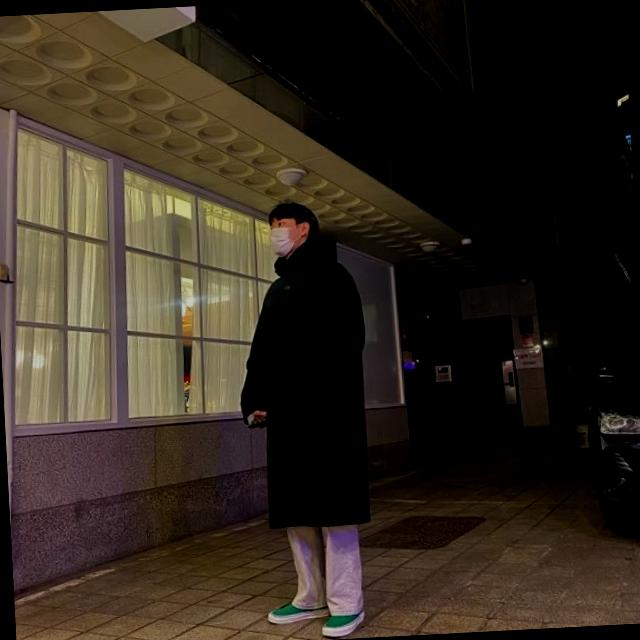coat: (232, 234, 374, 532), (288, 523, 368, 621)
